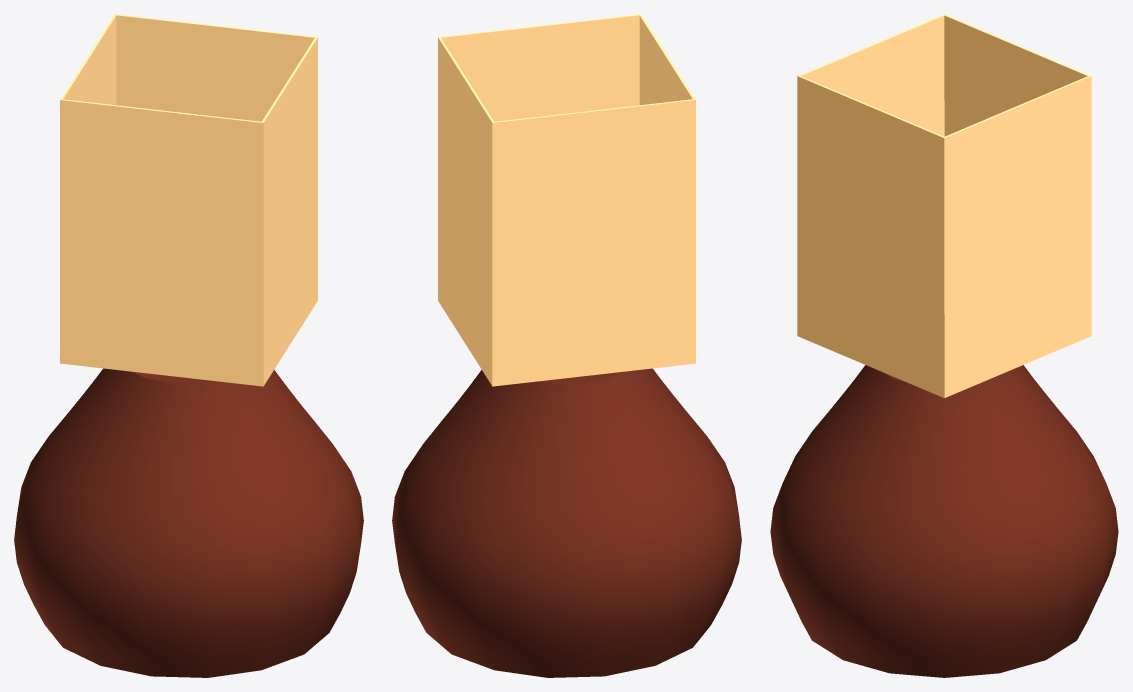
The model's file is Table_Lamp_PearBase_SquareShade.fbx.
The picture shows the model from 3 angles, left to right: view 1: azimuth 30°, elevation 25°; view 2: azimuth 150°, elevation 25°; view 3: azimuth 270°, elevation 25°; orthographic projection.
Visible parts, largest first — view 1: Table_Lamp_PearBase_SquareShade; view 2: Table_Lamp_PearBase_SquareShade; view 3: Table_Lamp_PearBase_SquareShade.
Boxes of the visible parts, x1,y1,x2,y2 form: Table_Lamp_PearBase_SquareShade: [14, 14, 363, 677]; Table_Lamp_PearBase_SquareShade: [392, 14, 741, 677]; Table_Lamp_PearBase_SquareShade: [770, 14, 1118, 677].
Bounding box in the file's own units: 36.4 × 62.44 × 36.4.
